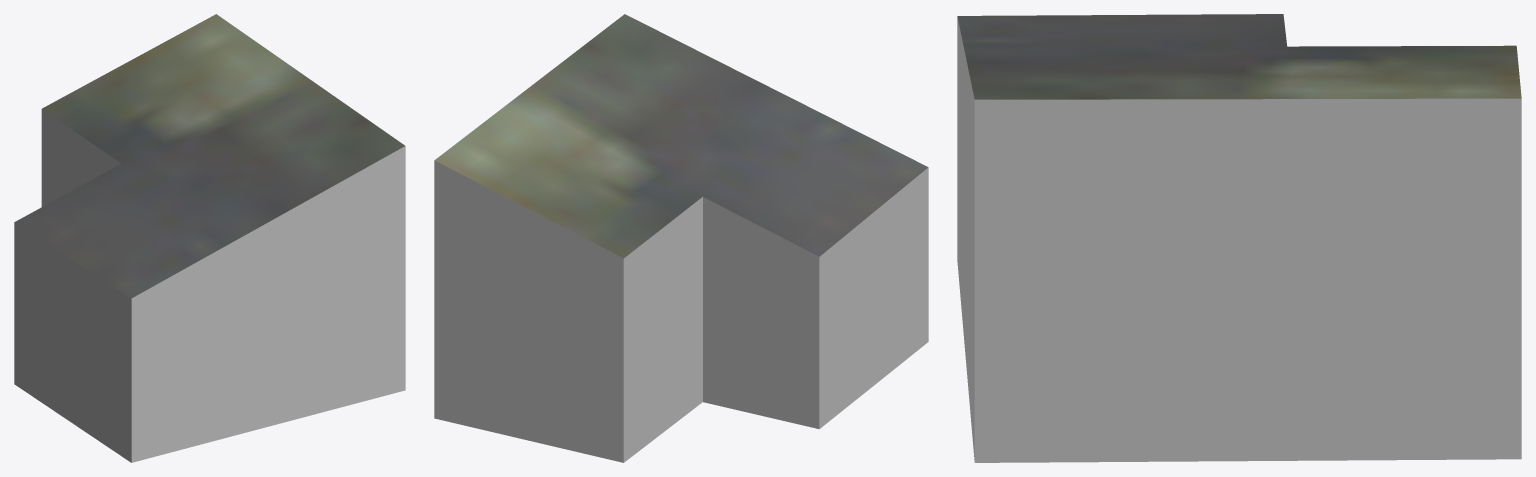
File: DEBW_0010007Tx8c.gltf
3 views of the same model, side by side, from view 1: azimuth 30°, elevation 25°; view 2: azimuth 150°, elevation 25°; view 3: azimuth 270°, elevation 25° (orthographic). The views are drawn at different scales.
Visible parts, largest first — view 1: Z_UP; view 2: Z_UP; view 3: Z_UP.
Boxes of the visible parts, x1=… form: Z_UP: x1=14, y1=14, x2=405, y2=462; Z_UP: x1=434, y1=14, x2=928, y2=462; Z_UP: x1=957, y1=14, x2=1521, y2=462.
Size of the model in its own units: 3.97 by 3.23 by 4.55.
Materials: 2 (1 with a texture image).
